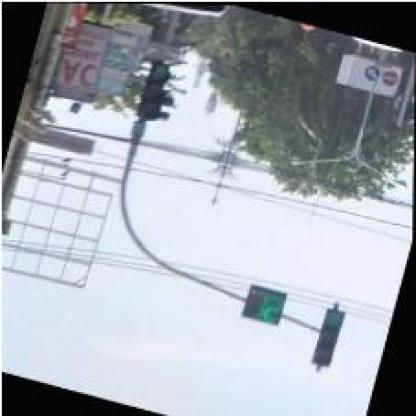green: (135, 56, 173, 120), (314, 304, 346, 367)
